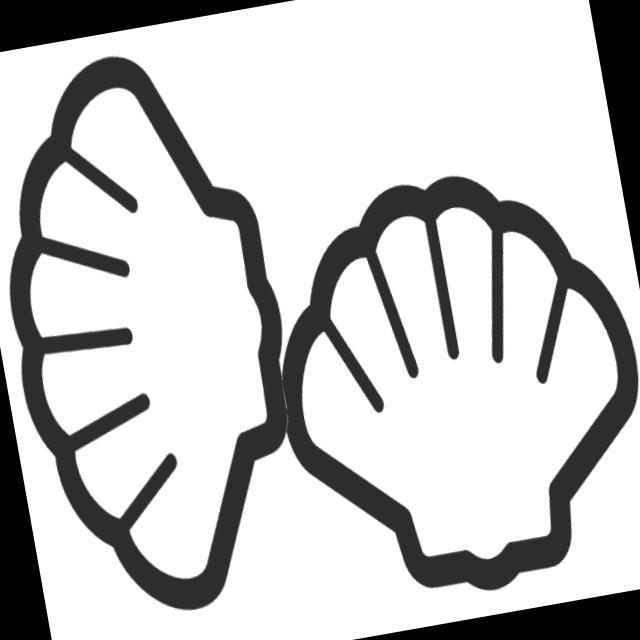shell: (1, 24, 339, 640), (230, 136, 640, 635)
